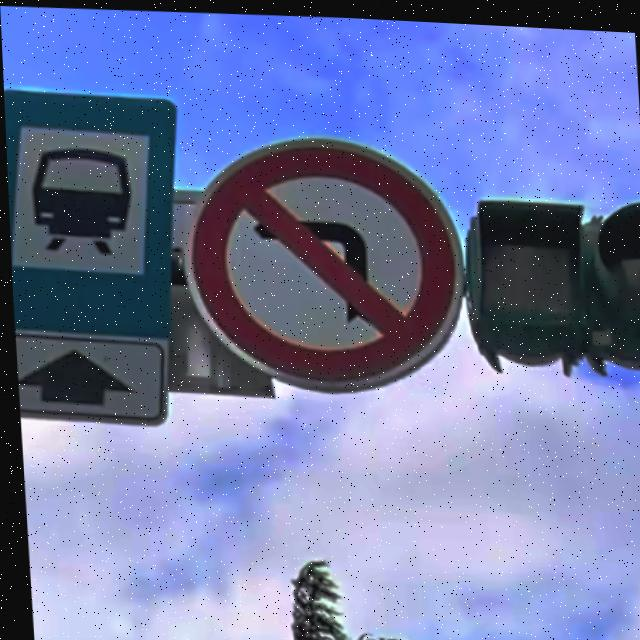noturnleft: (189, 140, 454, 375)
